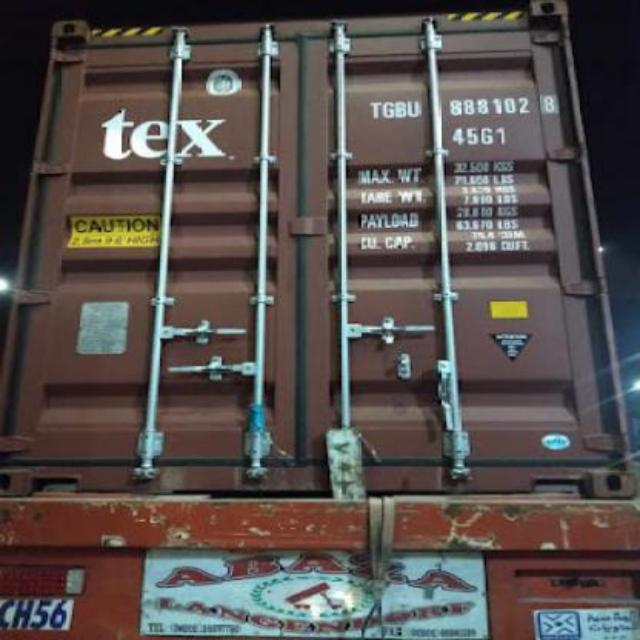0: (504, 94, 516, 116)
1: (492, 94, 502, 116)
2: (516, 93, 534, 117)
8: (536, 94, 562, 116), (446, 93, 462, 117), (462, 90, 474, 120), (474, 94, 490, 116)
B: (394, 94, 406, 122)
G: (381, 94, 394, 124)
T: (366, 96, 382, 124)
U: (404, 95, 420, 119)
